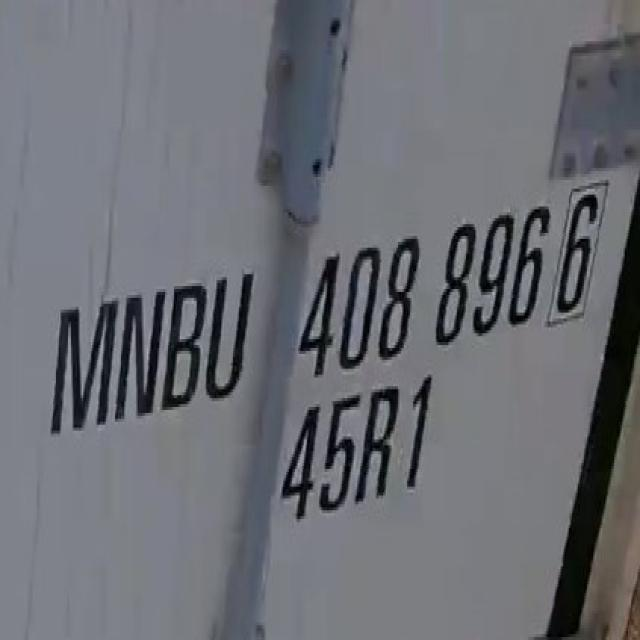dv: (552, 175, 608, 329)
owner: (46, 251, 258, 433)
serial: (296, 186, 547, 381)
size: (268, 370, 451, 544)
